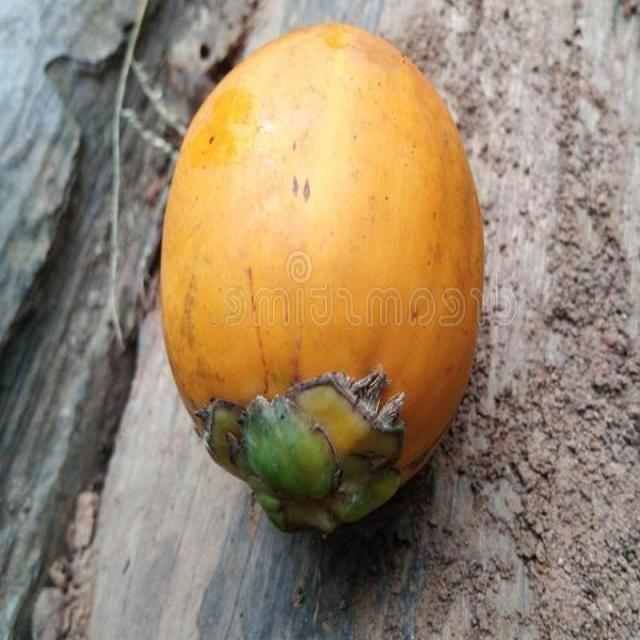good: (160, 21, 486, 540)
